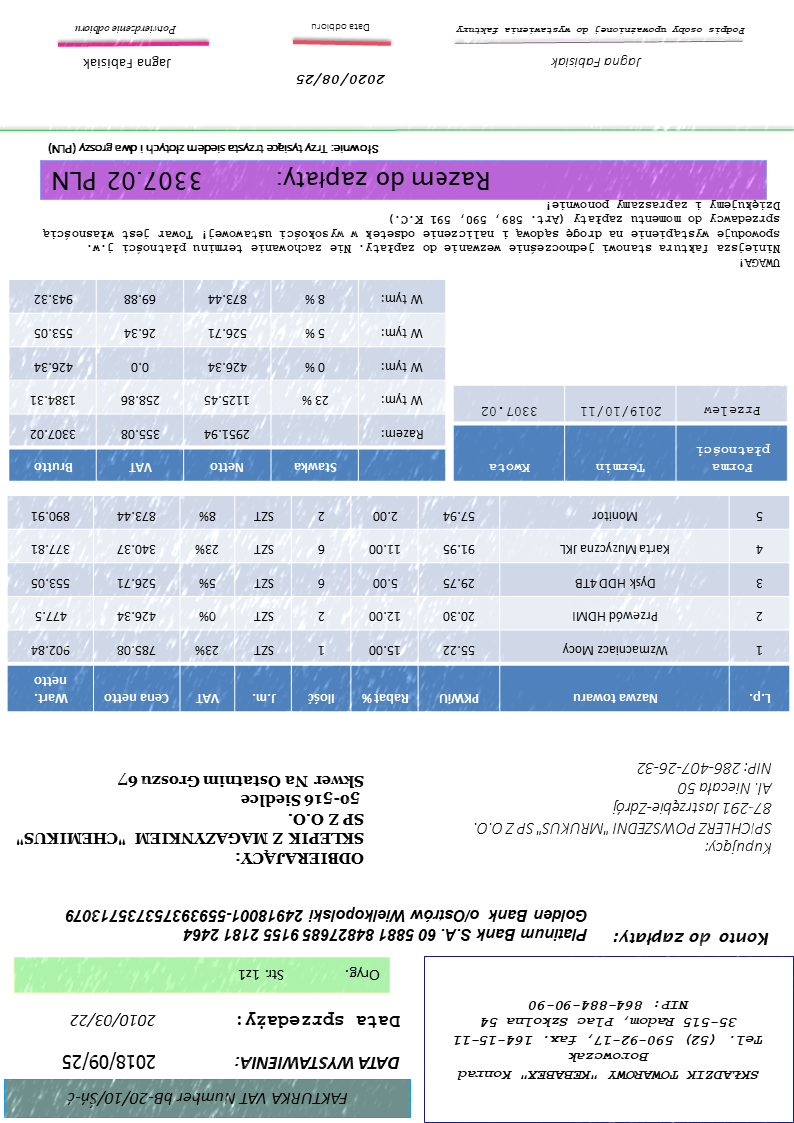Table: (6, 496, 792, 714), (8, 278, 446, 482), (452, 383, 790, 484)
TextBox: (42, 197, 783, 270), (16, 772, 366, 867), (473, 760, 776, 859), (451, 997, 764, 1084), (64, 906, 591, 946), (51, 164, 493, 196), (46, 139, 382, 158), (63, 1088, 352, 1109), (455, 23, 748, 39), (234, 1009, 403, 1033), (612, 926, 773, 949), (232, 1053, 403, 1073), (236, 964, 383, 984), (60, 1051, 159, 1074), (73, 22, 179, 38), (83, 55, 174, 72), (68, 1012, 158, 1029), (550, 55, 644, 70), (294, 72, 387, 87), (309, 20, 373, 35)
